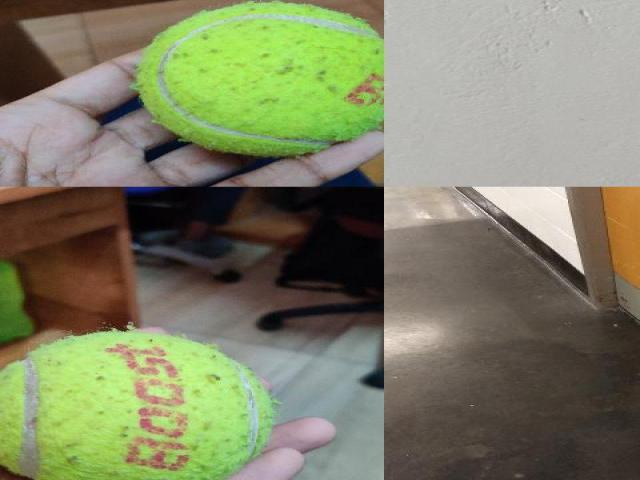tennis-ball: (0, 332, 273, 480), (132, 0, 383, 158)
